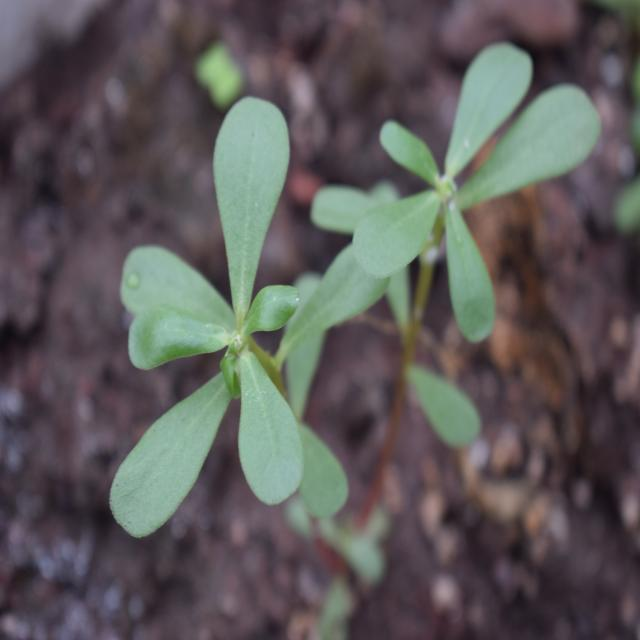purslane: (91, 39, 607, 560)
